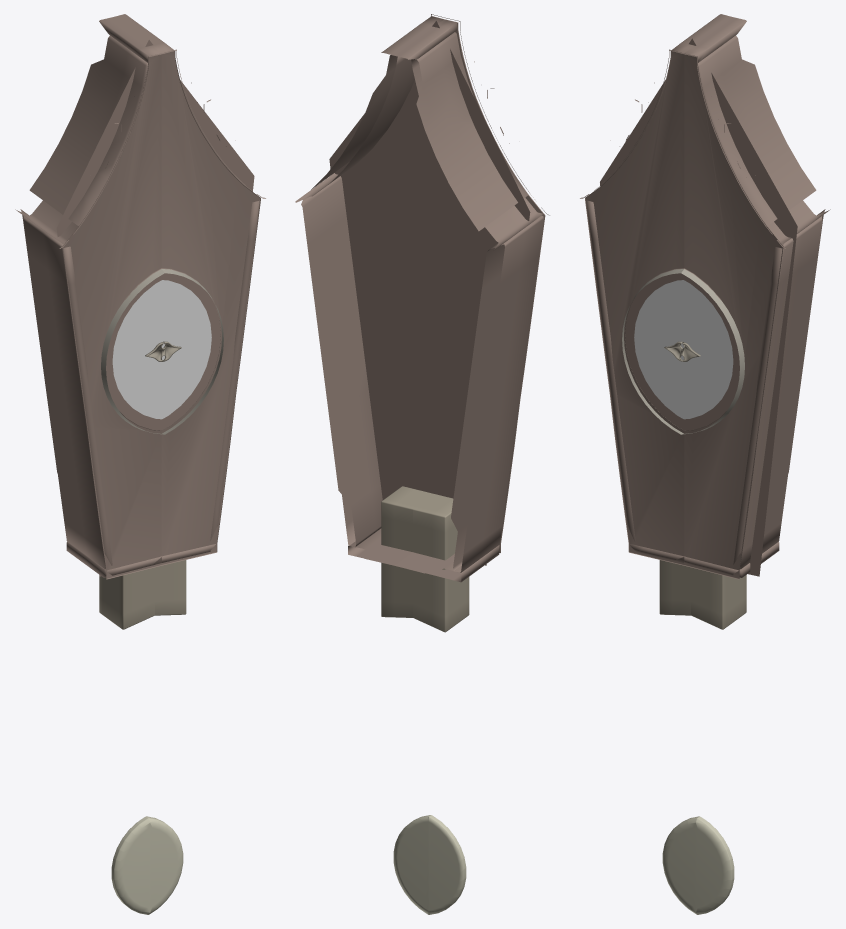
The picture shows the model from 3 angles, left to right: view 1: azimuth 30°, elevation 25°; view 2: azimuth 150°, elevation 25°; view 3: azimuth 330°, elevation 25°; orthographic projection.
Visible parts, largest first — view 1: Plane; view 2: Plane; view 3: Plane.
Boxes of the visible parts, left/top/right/bottom form: Plane: left=15, top=14, right=265, bottom=914; Plane: left=295, top=14, right=549, bottom=914; Plane: left=580, top=14, right=830, bottom=914.
Bounding box in the file's own units: 0.8837 × 3.58 × 0.3882.
